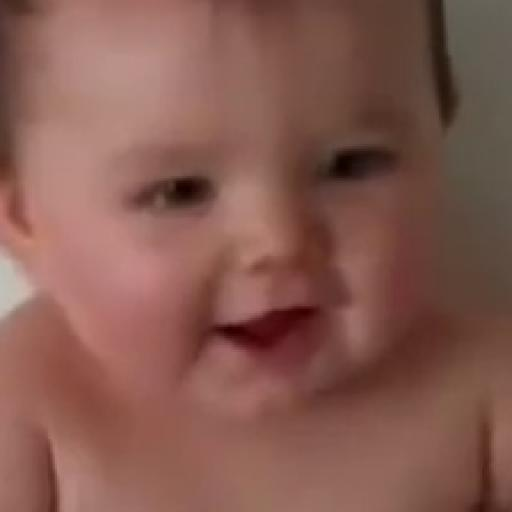Autism: (38, 13, 500, 477)
